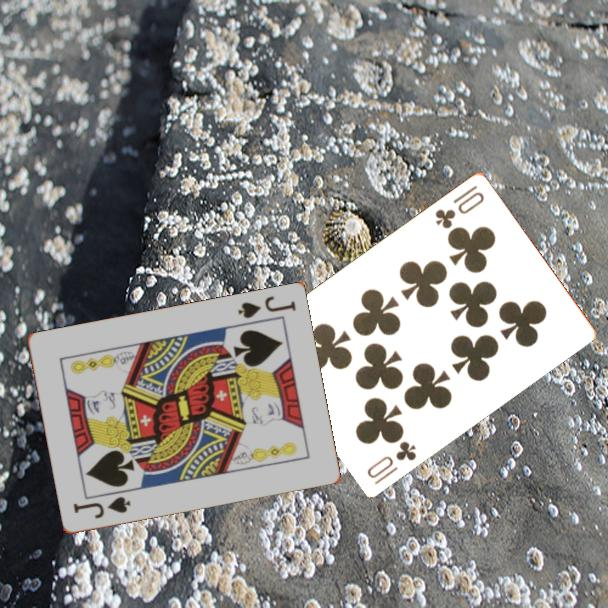c10: (363, 437, 419, 487), (432, 181, 487, 231)
s11: (234, 293, 299, 322), (70, 493, 134, 522)
